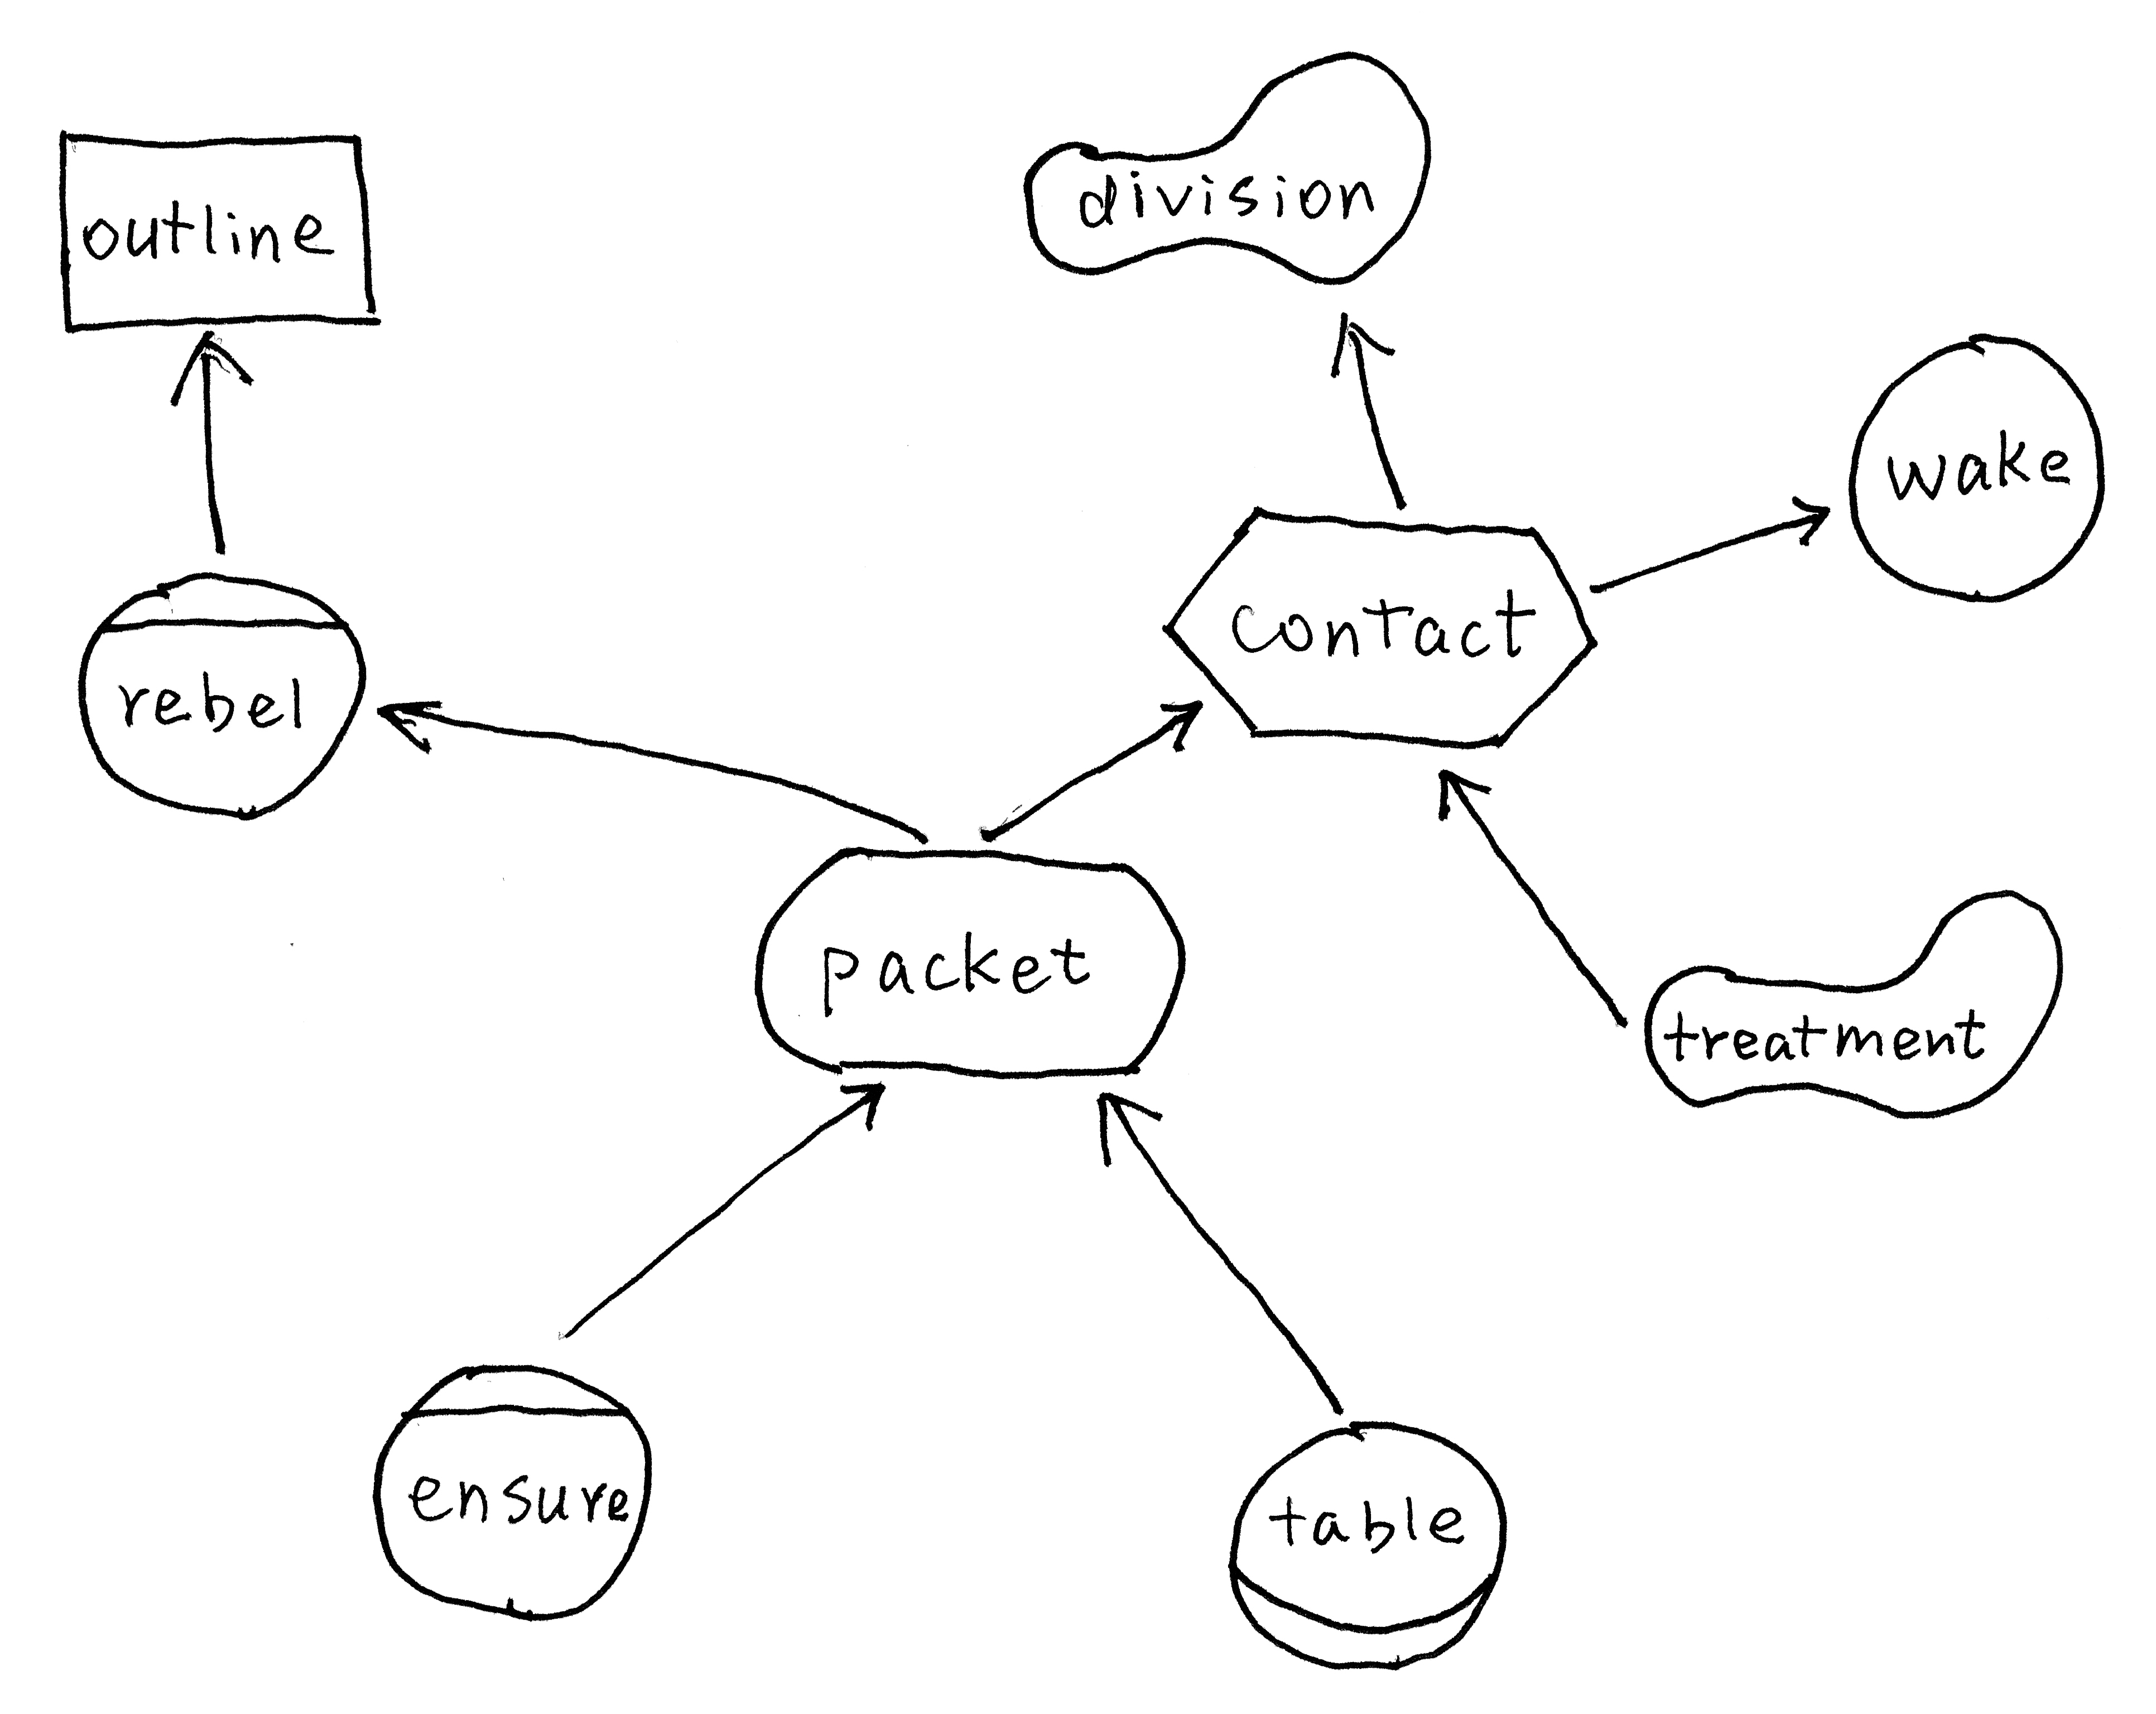actor: (1834, 317, 2124, 618)
agent: (735, 823, 1209, 1108), (348, 1345, 674, 1637), (63, 553, 387, 833)
arrow: (1069, 1073, 1180, 1182), (161, 315, 266, 427), (355, 674, 455, 770), (1305, 299, 1409, 387), (1409, 751, 1510, 832), (815, 1064, 910, 1143), (1783, 481, 1853, 565), (1148, 688, 1220, 756)
quality: (1004, 37, 1447, 298), (1620, 874, 2077, 1126)
resource: (31, 107, 395, 359)
role: (1200, 1401, 1538, 1682)
task: (1144, 485, 1615, 774)
